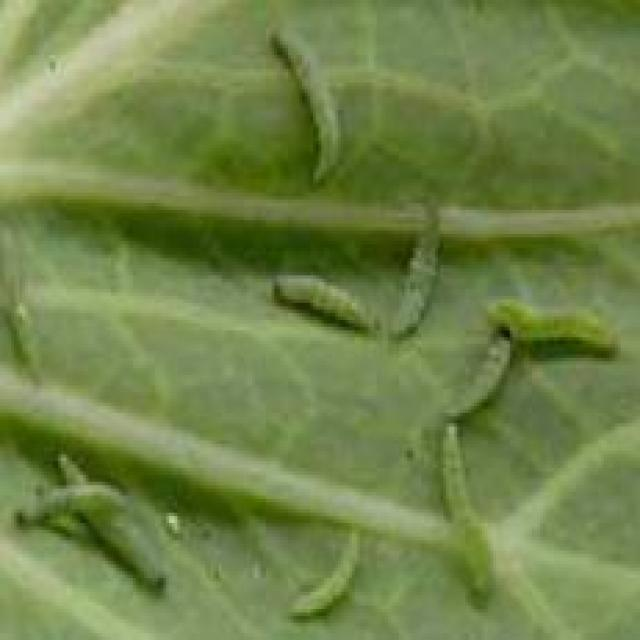BeetArmyWorm-Larva-: (431, 415, 520, 616), (268, 19, 348, 199), (266, 256, 392, 346), (484, 281, 624, 360), (389, 186, 451, 343), (423, 329, 517, 429), (291, 519, 369, 617)
